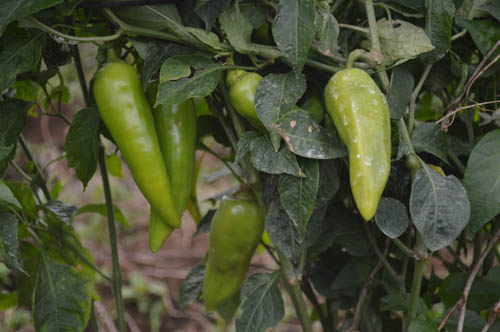ChiliPepper: (93, 63, 182, 229), (325, 69, 391, 222), (142, 80, 198, 259), (201, 199, 266, 317), (233, 74, 265, 134)
